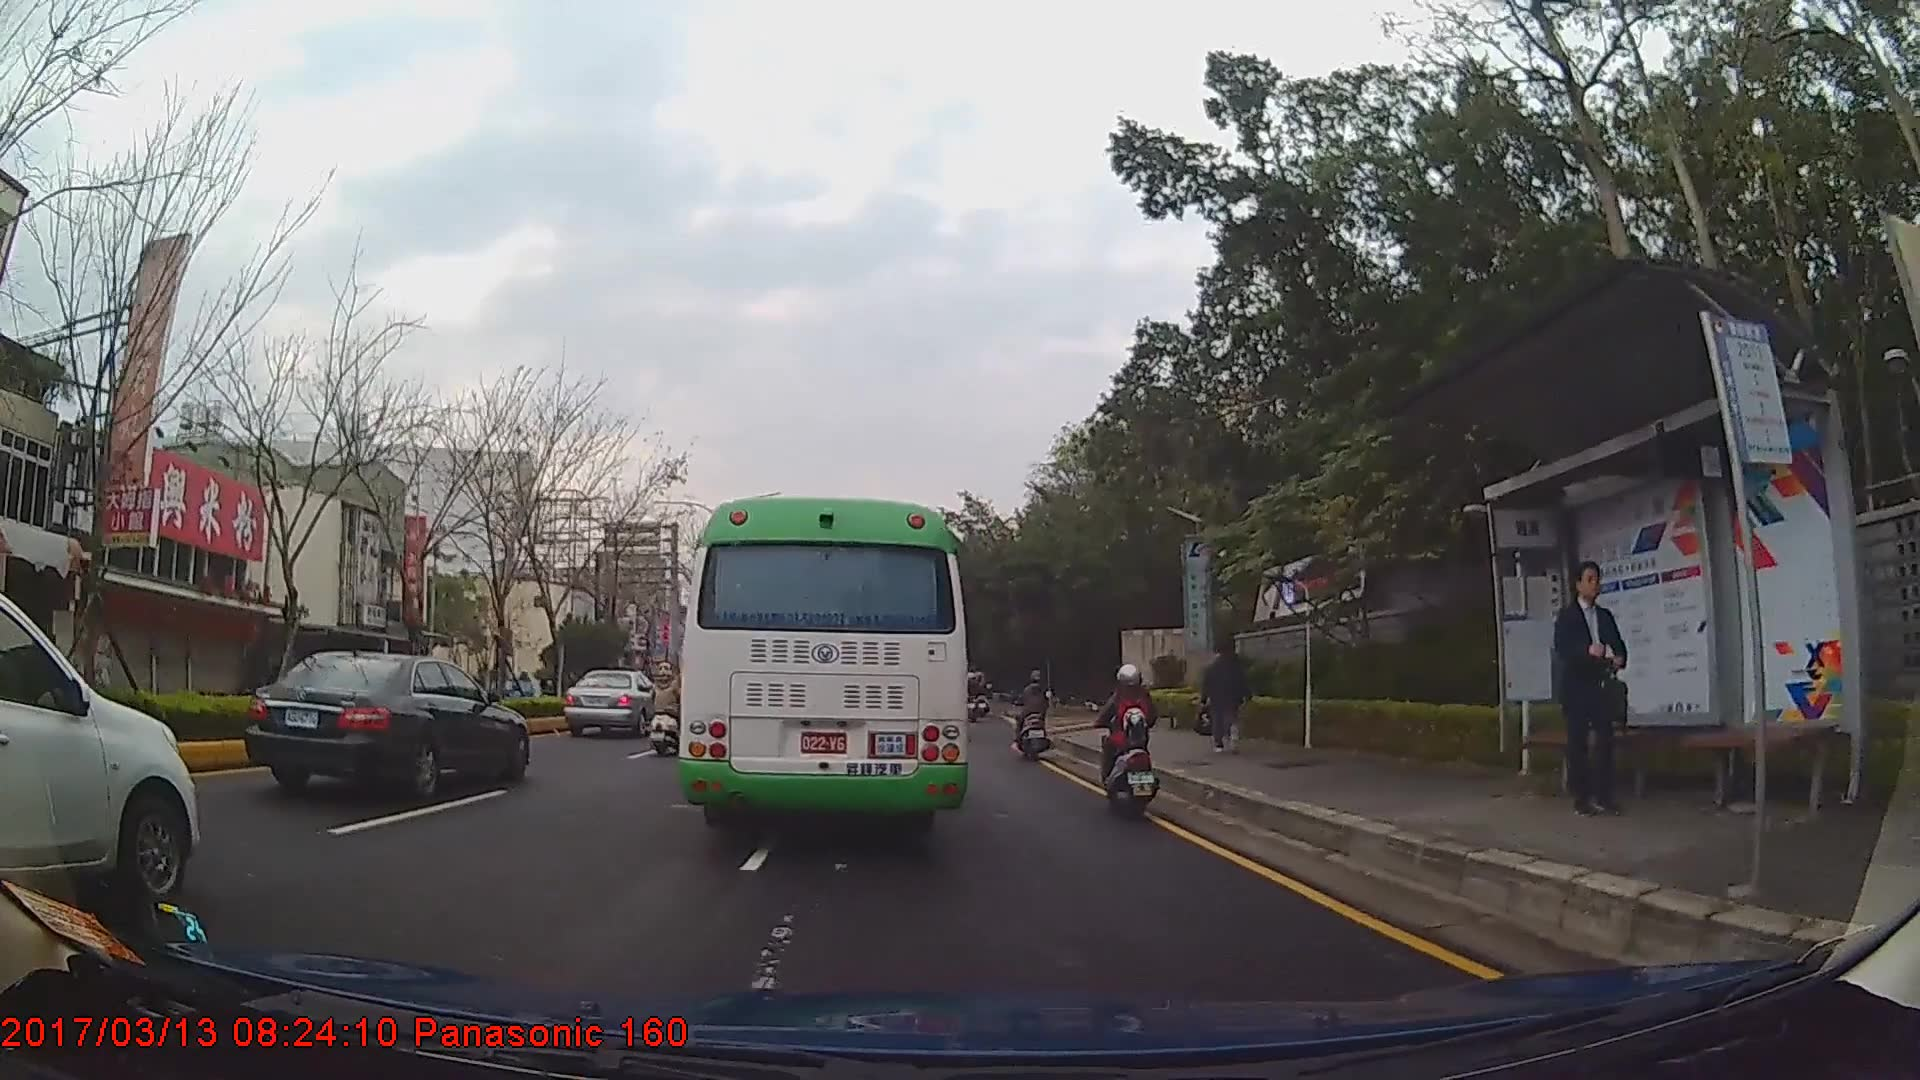pedestrian: (1553, 565, 1630, 822), (1196, 639, 1253, 761)
rider: (1094, 661, 1159, 821), (1012, 667, 1055, 762), (649, 662, 681, 758), (962, 672, 982, 713)
vehicle: (677, 501, 966, 844), (0, 580, 199, 905), (243, 649, 530, 803), (563, 667, 661, 739)
